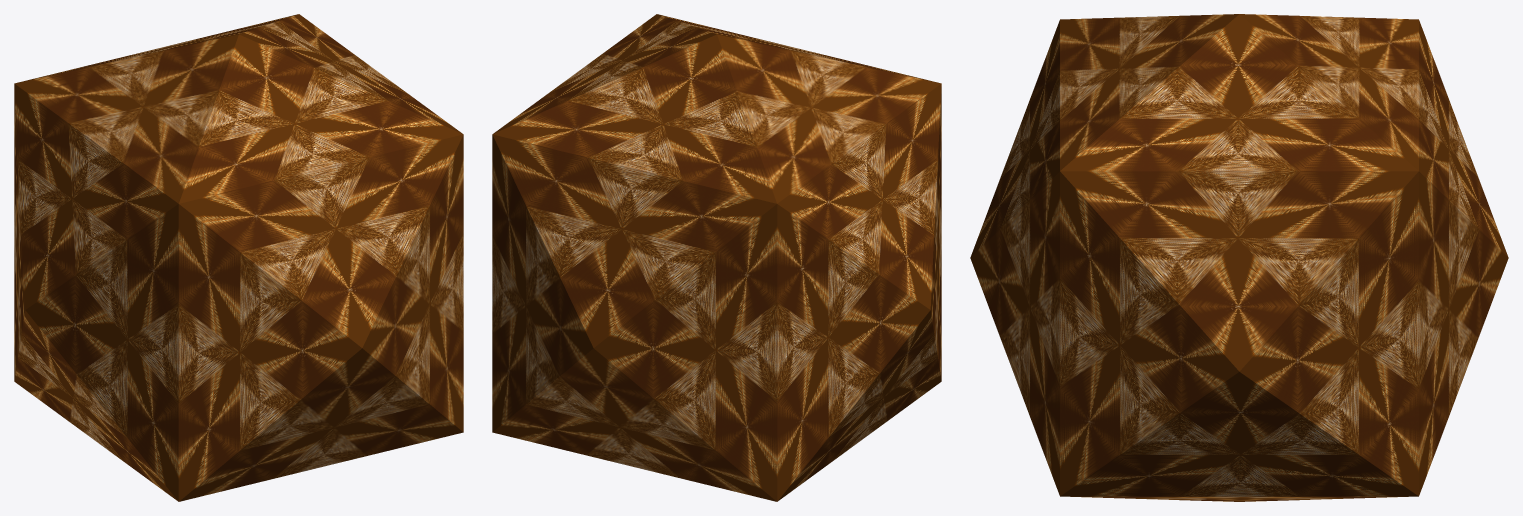
The model's file is 20TetrakisHexahedron.obj.
3 renders of one model, left to right at view 1: azimuth 30°, elevation 25°; view 2: azimuth 150°, elevation 25°; view 3: azimuth 270°, elevation 25°, orthographic. The views are drawn at different scales.
Size of the model in its own units: 3.18 by 3.18 by 3.18.
Materials: 1 (1 with a texture image).
